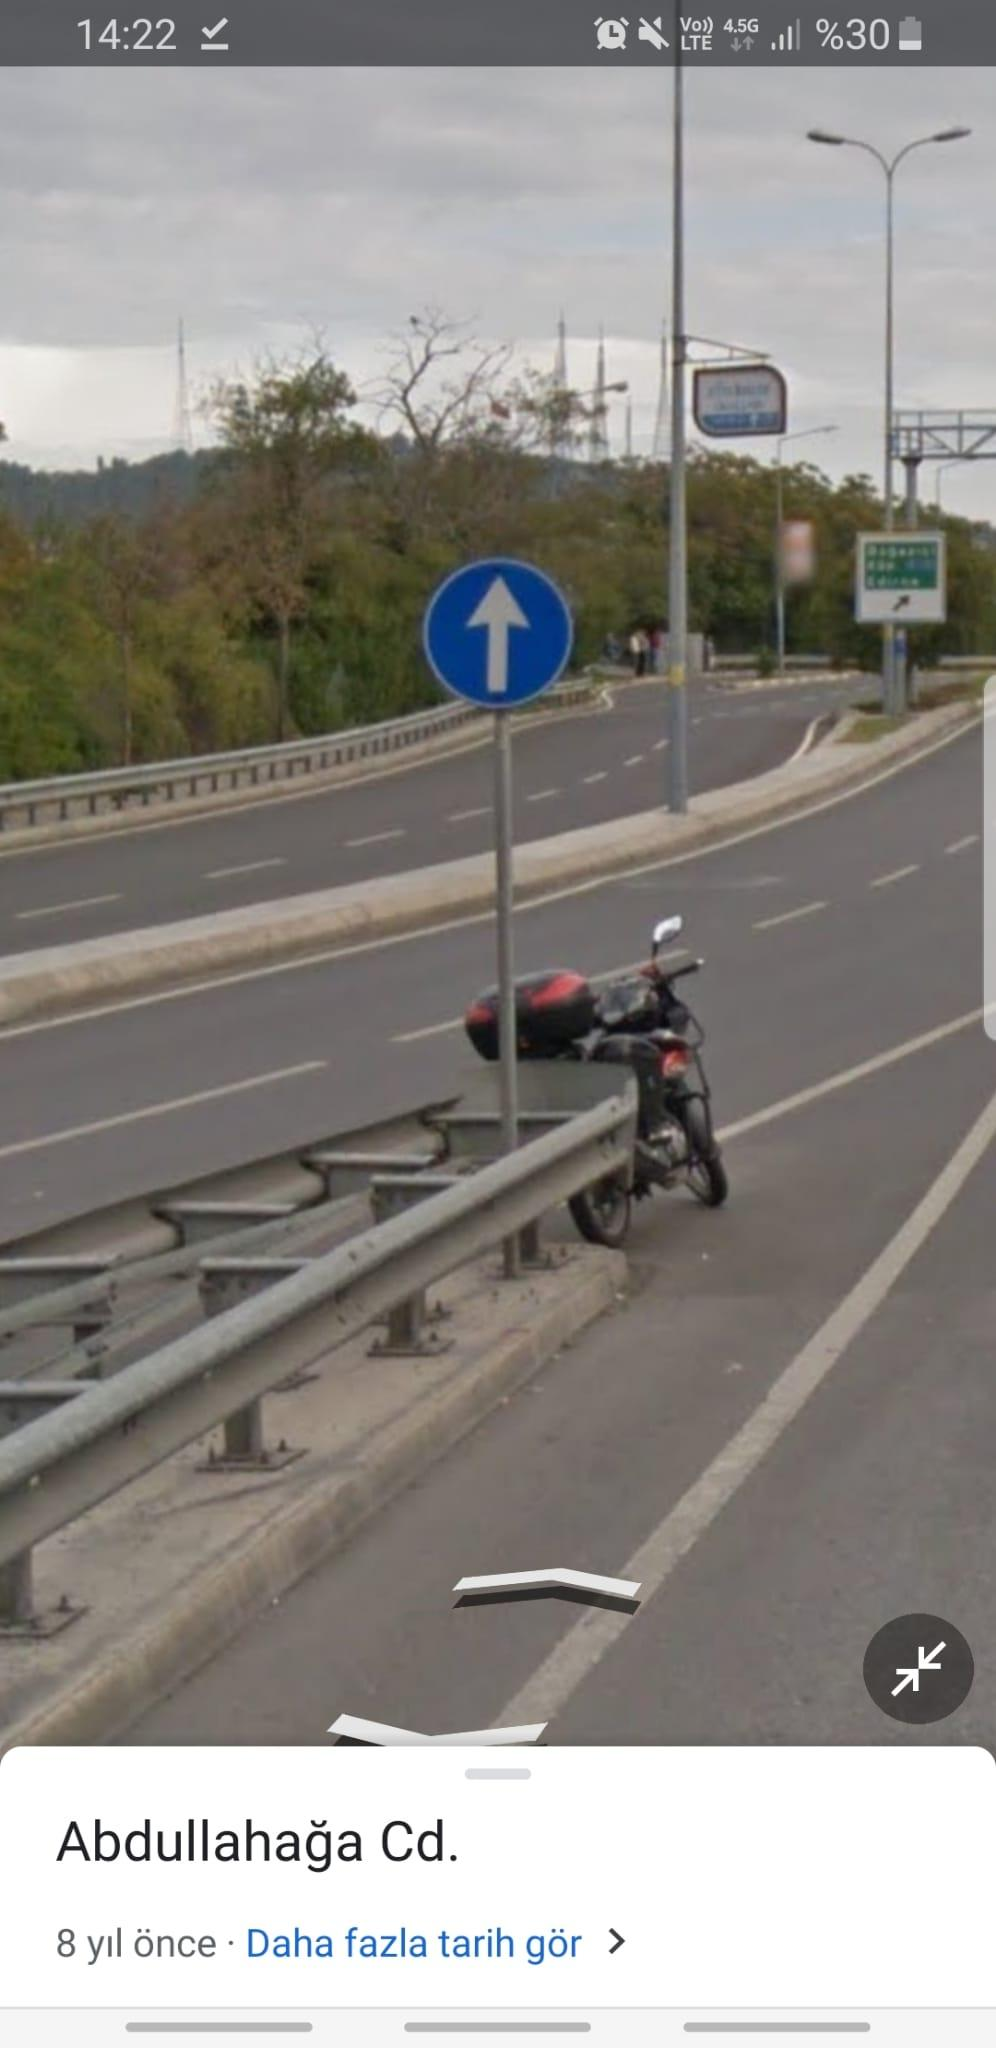forward: (435, 560, 573, 705)
